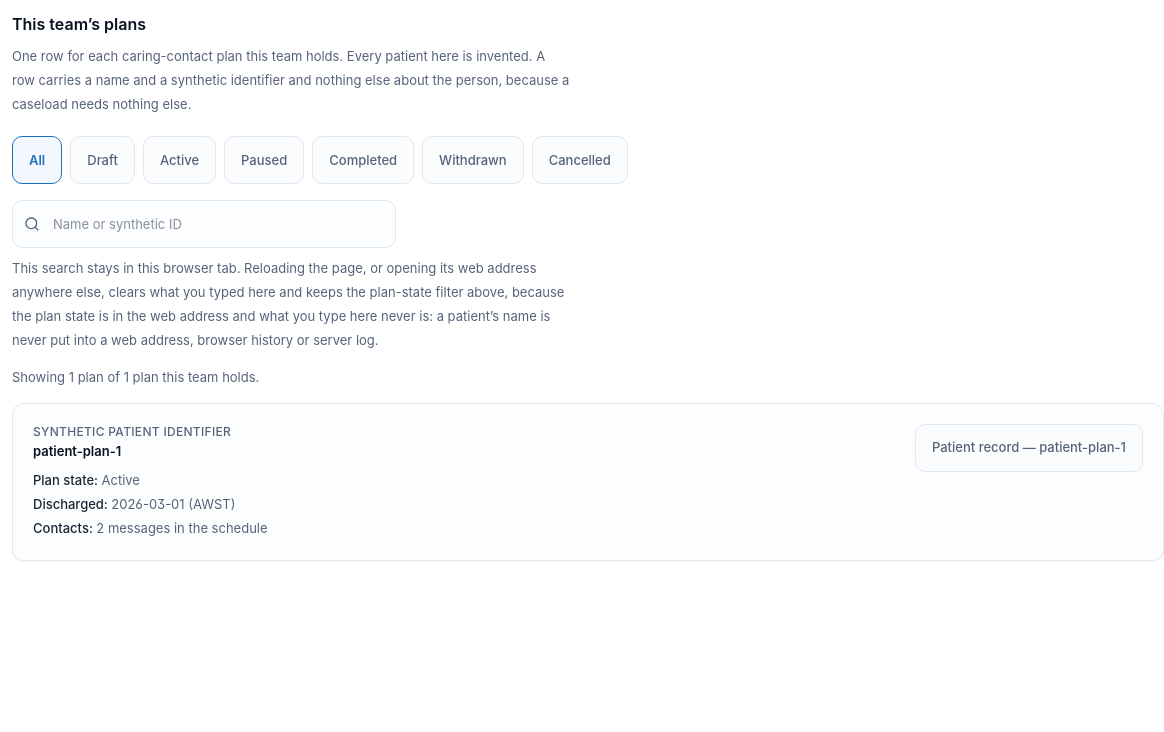
Scenario: Patients directory - the two empty states are not interchangeable › a caseload hidden by the identifier search names the search text as the reason
Expected: the number of list items is 1, [12,403,1163,561]
Type "nothing-matches-this" into the search field at (204, 224), box [12,200,396,248]
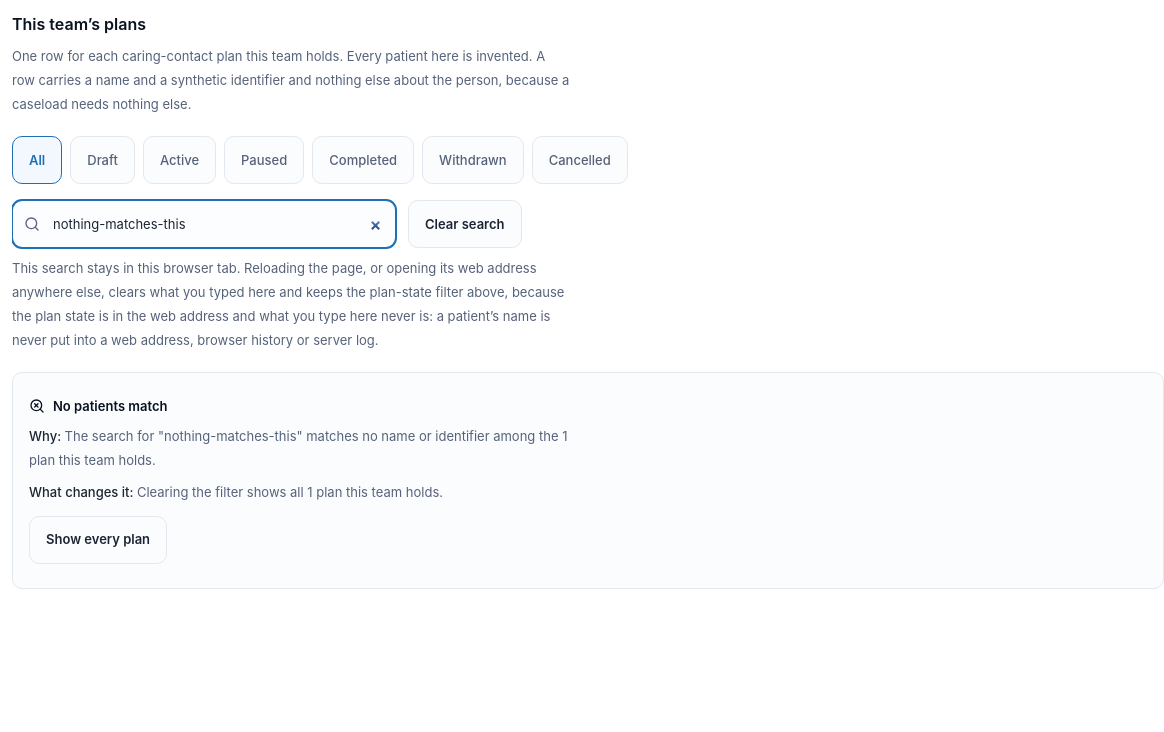
Now the element "No patients match" shows "nothing-matches-this", box [29,428,567,468]
